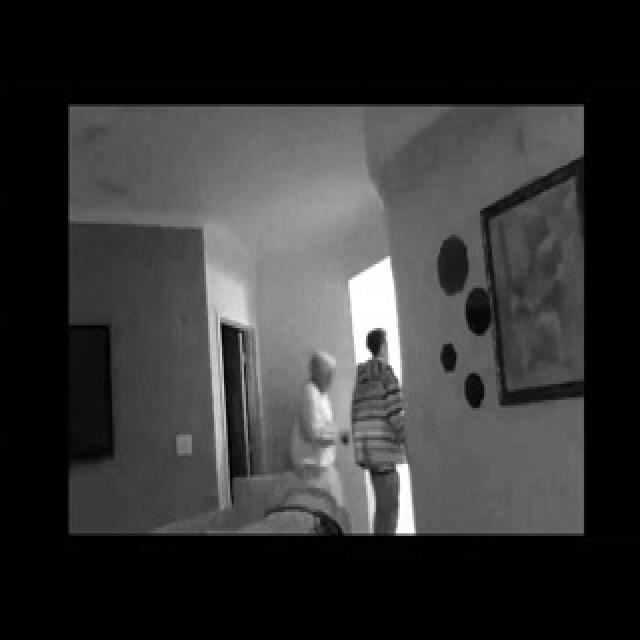thief: (356, 320, 403, 432), (295, 344, 342, 423)
